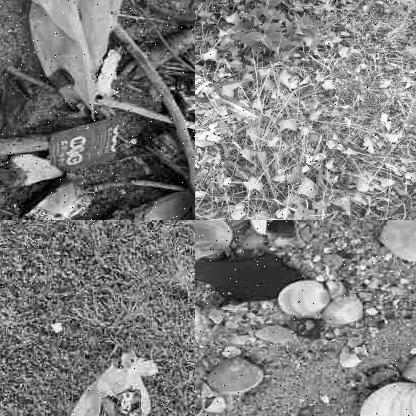glass: (195, 60, 269, 130)
plastic: (0, 0, 141, 115), (39, 352, 162, 415), (45, 114, 124, 176)
